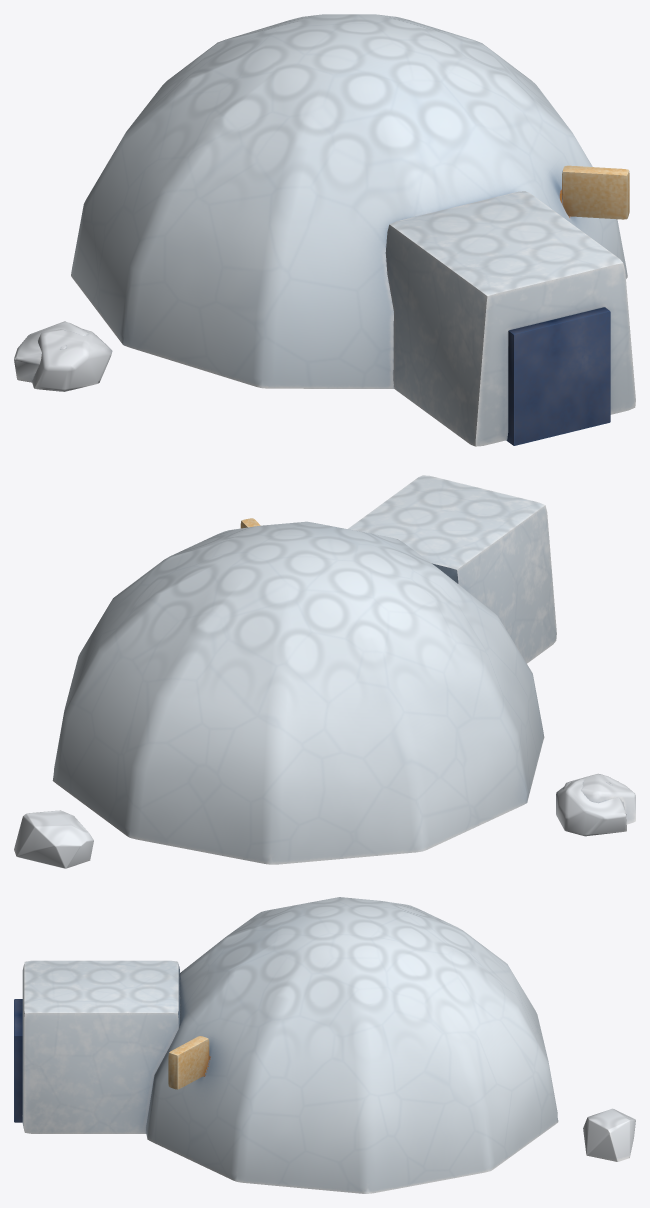
File: Glace_Igloo.fbx
3 renders of one model, top to bottom at view 1: azimuth 30°, elevation 25°; view 2: azimuth 150°, elevation 25°; view 3: azimuth 270°, elevation 25°, orthographic. The views are drawn at different scales.
Visible parts, largest first — view 1: Glace_Igloo; view 2: Glace_Igloo; view 3: Glace_Igloo.
Part boxes in pixels (x1=…): Glace_Igloo: x1=14, y1=14, x2=635, y2=446; Glace_Igloo: x1=14, y1=475, x2=635, y2=868; Glace_Igloo: x1=14, y1=897, x2=635, y2=1193.
Bounding box in the file's own units: 1214 × 485 × 1423.
1 material, 1 textured.
